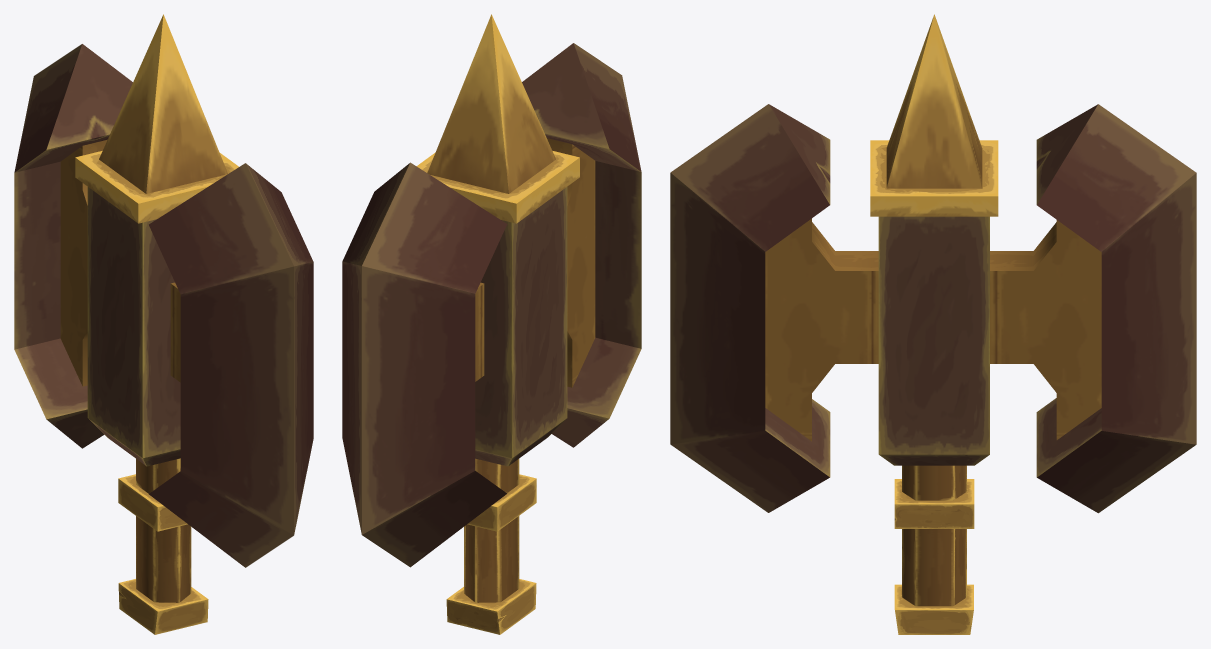
Rendered from SM_WEP_head_axe_battle_04.fbx.
3 views of the same model, side by side, from view 1: azimuth 30°, elevation 25°; view 2: azimuth 150°, elevation 25°; view 3: azimuth 270°, elevation 25° (orthographic).
Parts seen in each view (by area): view 1: SM_WEP_head_axe_battle_04; view 2: SM_WEP_head_axe_battle_04; view 3: SM_WEP_head_axe_battle_04.
Part boxes in pixels (x1=…): SM_WEP_head_axe_battle_04: x1=14, y1=14, x2=313, y2=634; SM_WEP_head_axe_battle_04: x1=342, y1=14, x2=641, y2=634; SM_WEP_head_axe_battle_04: x1=670, y1=14, x2=1196, y2=634.
Bounding box in the file's own units: 15.94 × 68.91 × 54.05.
